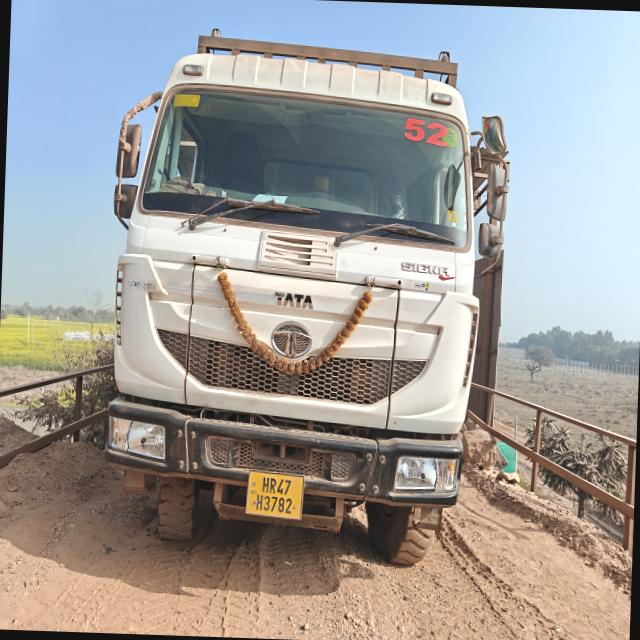license_plate: (246, 471, 304, 520)
